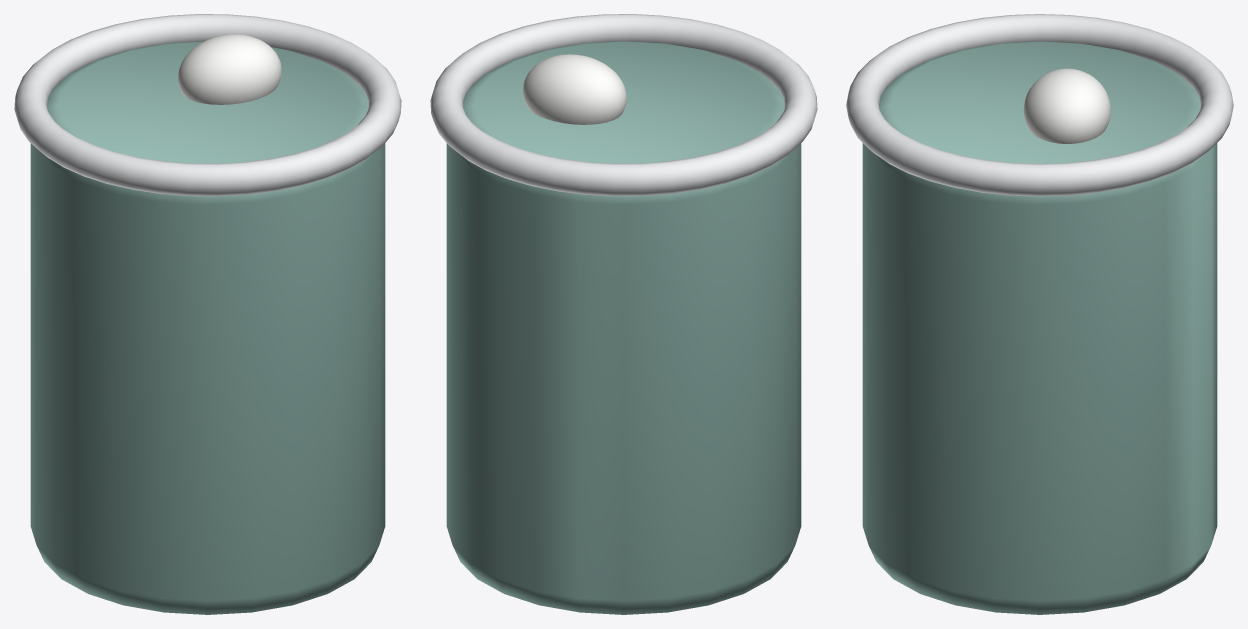
File: papelera.glb
3 renders of one model, left to right at view 1: azimuth 30°, elevation 25°; view 2: azimuth 150°, elevation 25°; view 3: azimuth 270°, elevation 25°, orthographic.
Visible parts, largest first — view 1: cubo, aro, papel; view 2: cubo, aro, papel; view 3: cubo, aro, papel.
Part boxes in pixels (x1,y1,x2,y2): cubo: (30,41,385,614); aro: (14,14,401,196); papel: (177,34,281,104); cubo: (446,41,801,614); aro: (430,14,817,196); papel: (523,54,626,124); cubo: (862,41,1217,614); aro: (846,14,1233,196); papel: (1023,68,1110,143).
Bounding box in the file's own units: 0.284 × 0.398 × 0.284.
